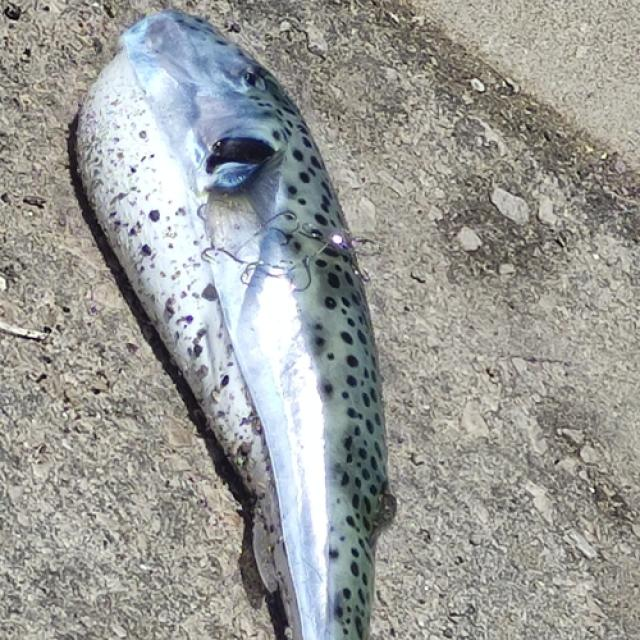Balik: (77, 12, 392, 639)
